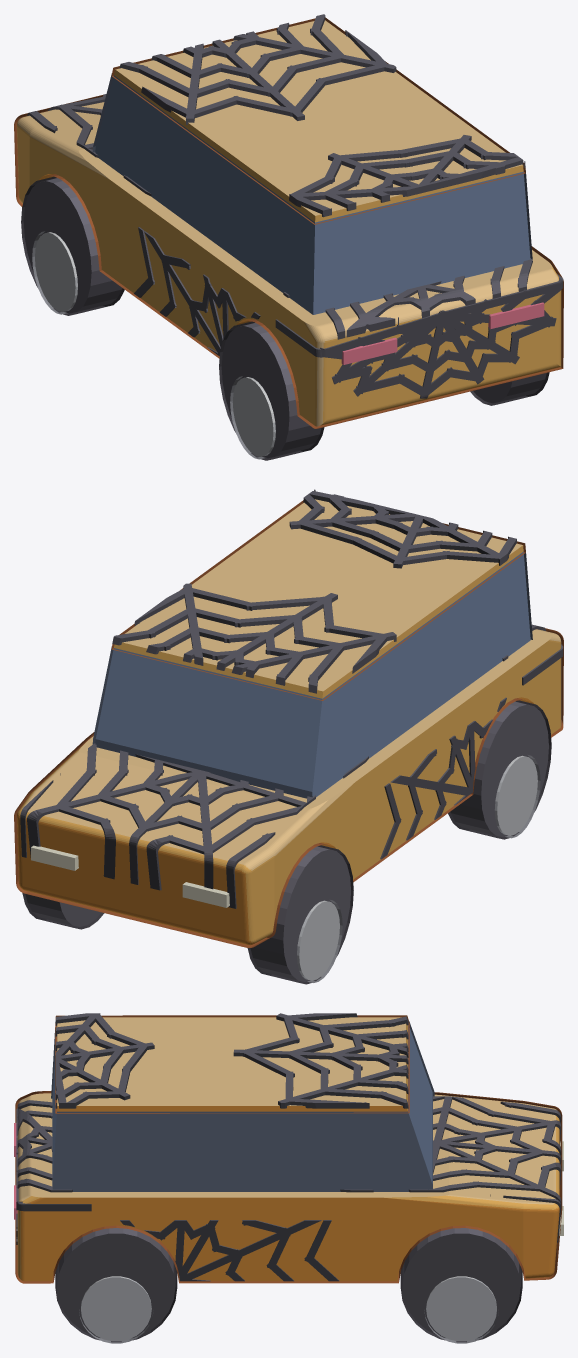
File: car_jeep.glb
The picture shows the model from 3 angles, top to bottom: view 1: azimuth 30°, elevation 25°; view 2: azimuth 150°, elevation 25°; view 3: azimuth 270°, elevation 25°; orthographic projection. The views are drawn at different scales.
Visible parts, largest first — view 1: car; view 2: car; view 3: car.
Part boxes in pixels (box(x1,y1,x2,y2)): car: box(14, 14, 563, 460); car: box(14, 489, 563, 984); car: box(14, 1013, 563, 1343).
Bounding box in the file's own units: 2.19 × 2.04 × 4.46.
